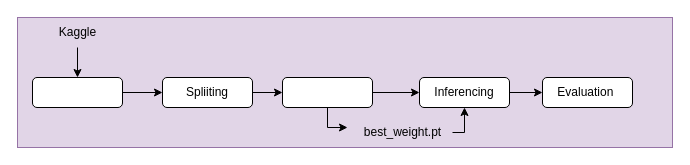
Image size: 690x165. Some labels were removed from this diagram. The centre of each missing label's shape, as x and y in pixels:
Loading Data: point (77, 92)
Training: point (327, 92)
